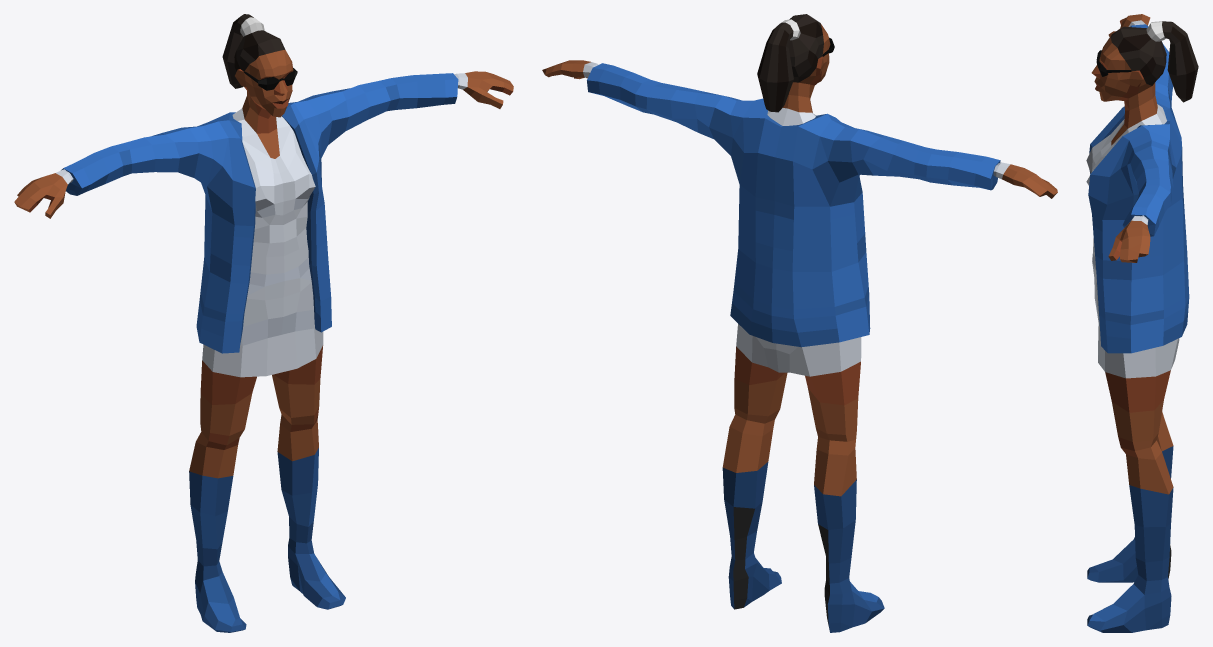
The model's file is casual_Female_J-model.fbx.
3 views of the same model, side by side, from view 1: azimuth 30°, elevation 25°; view 2: azimuth 150°, elevation 25°; view 3: azimuth 270°, elevation 25° (orthographic). The views are drawn at different scales.
Parts seen in each view (by area): view 1: casual_Female_J, acc_coat; view 2: acc_coat, casual_Female_J; view 3: casual_Female_J, acc_coat.
Boxes of the visible parts, x1,y1,x2,y2 form: casual_Female_J: [14, 14, 513, 632]; acc_coat: [61, 73, 458, 353]; acc_coat: [587, 63, 1000, 347]; casual_Female_J: [542, 14, 1057, 632]; casual_Female_J: [1086, 14, 1198, 632]; acc_coat: [1088, 24, 1189, 353].
Bounding box in the file's own units: 154 × 172 × 30.05.
Materials: 1 (1 with a texture image).
